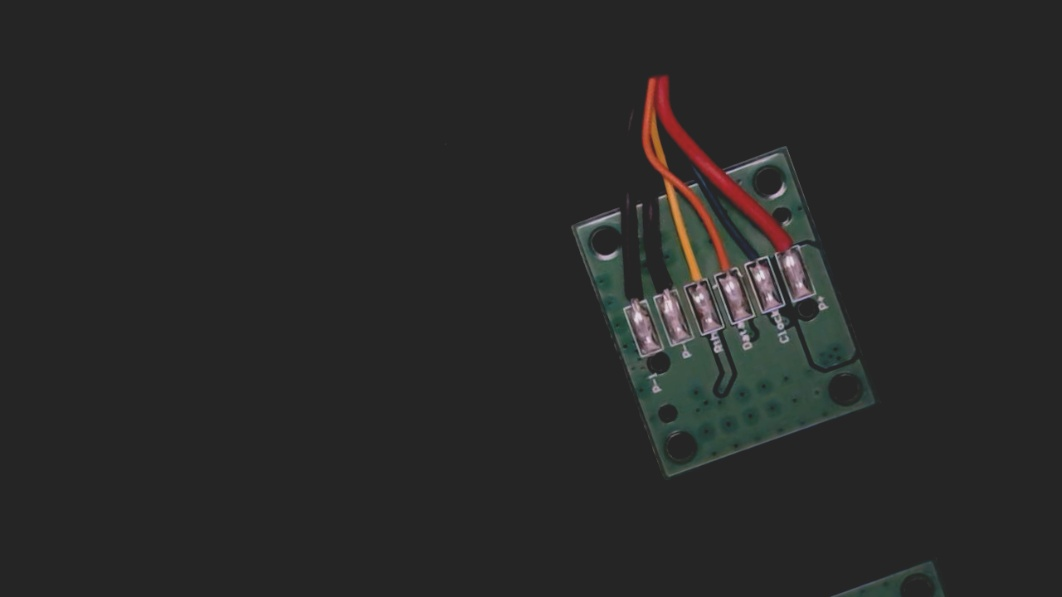Black: (638, 245, 683, 309)
Black1: (609, 260, 653, 320)
Green: (730, 223, 772, 276)
Orange: (701, 231, 743, 288)
Red: (759, 208, 804, 267)
Yellow: (670, 238, 714, 299)
